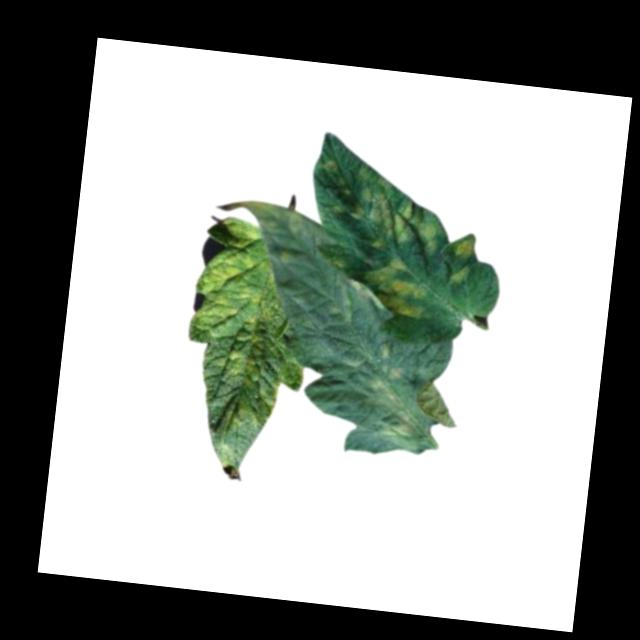Leaf_Mold: (172, 213, 320, 487), (346, 177, 447, 256), (363, 341, 427, 450), (359, 252, 434, 321), (451, 231, 478, 260), (447, 264, 471, 285)
